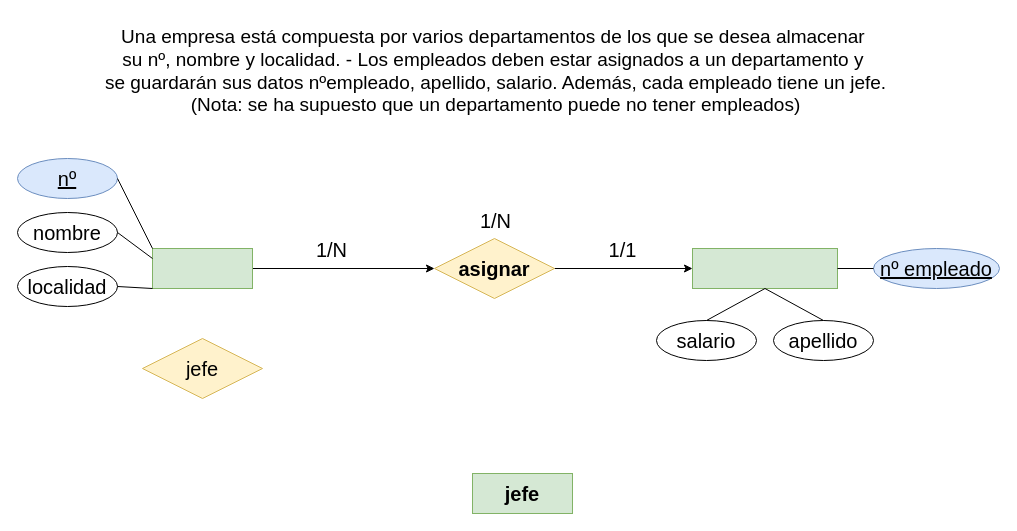
Some shapes in this 1017 by 531 pixel diagram are drawn without their labels. The box of each missing label's shape, as (x1, y1, x2, y2) in pixels:
departamento: (692, 248, 838, 288)
empleado: (152, 248, 252, 288)
